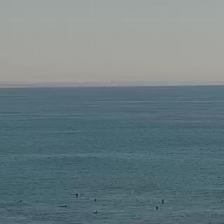surfer: (60, 205, 67, 208), (17, 200, 23, 203), (94, 211, 98, 214), (155, 206, 158, 210), (162, 200, 165, 204), (76, 193, 78, 197), (95, 199, 97, 202)
